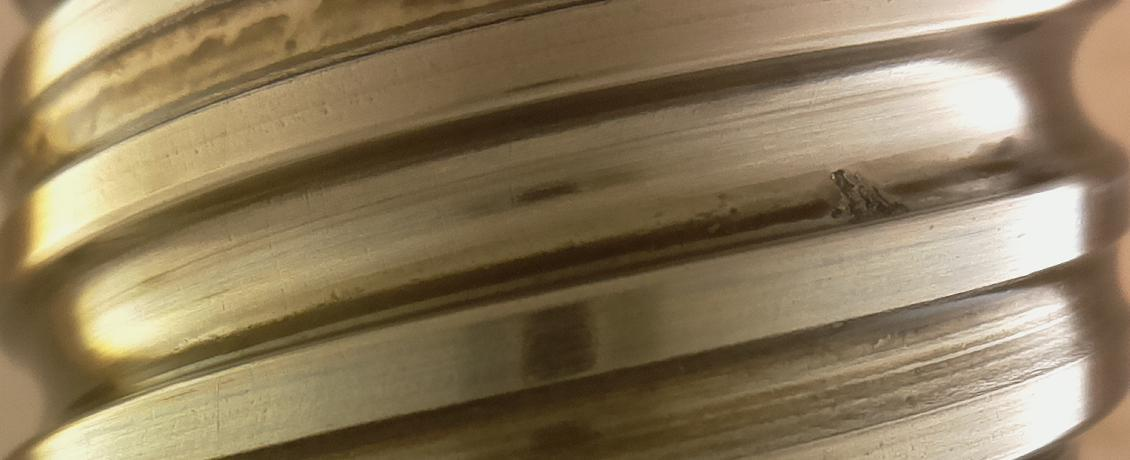pitting: (831, 169, 908, 222)
